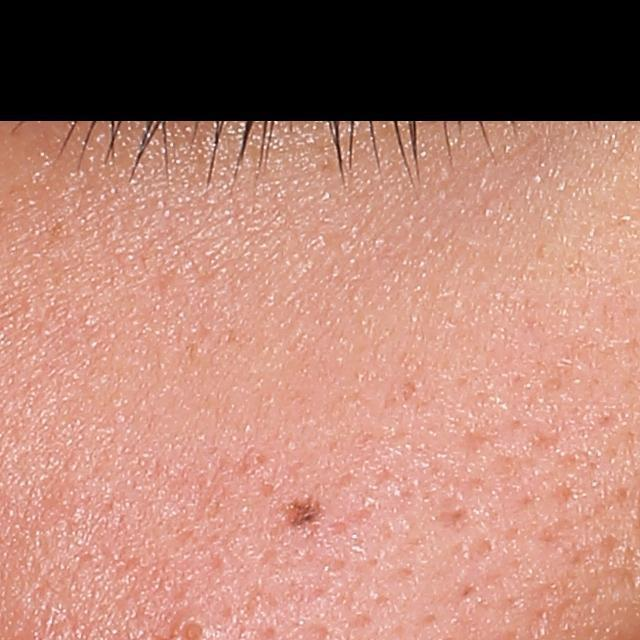nevus: (286, 494, 331, 539)
